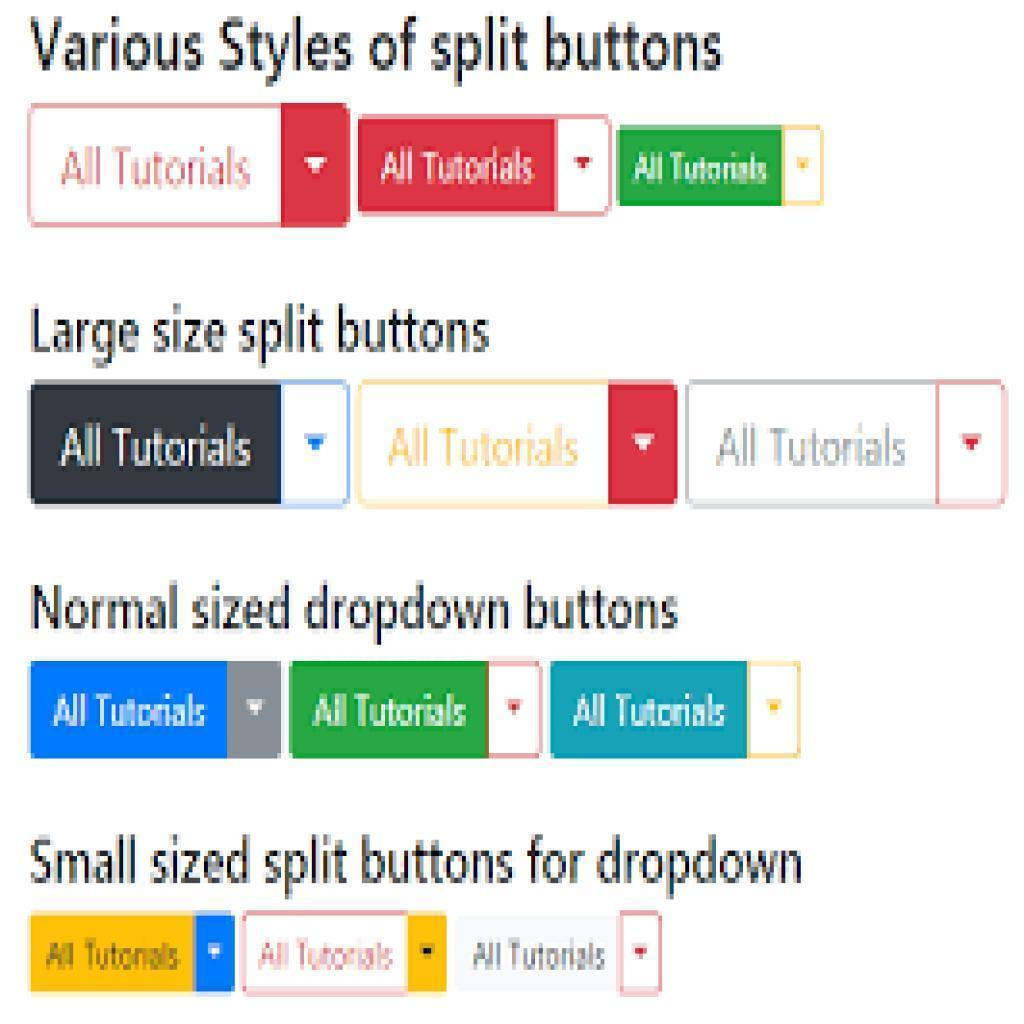dropdown: (28, 102, 351, 228), (355, 382, 679, 507), (687, 381, 1004, 507), (32, 382, 349, 504), (29, 658, 280, 760), (355, 116, 609, 215), (551, 662, 801, 761), (289, 661, 543, 757), (28, 910, 234, 994), (245, 909, 449, 993), (457, 912, 663, 994), (617, 125, 821, 203)
